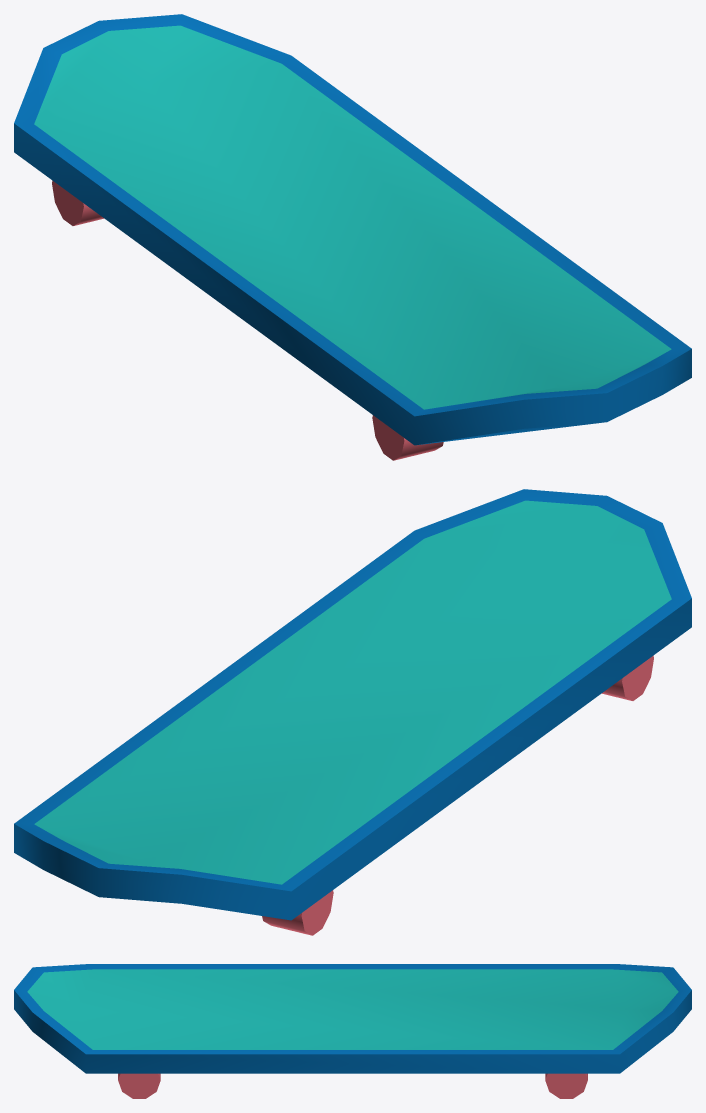
File: Skateboard_Models.fbx
The picture shows the model from 3 angles, top to bottom: view 1: azimuth 30°, elevation 25°; view 2: azimuth 150°, elevation 25°; view 3: azimuth 270°, elevation 25°; orthographic projection. The views are drawn at different scales.
Parts seen in each view (by area): view 1: skateboard; view 2: skateboard; view 3: skateboard.
Part boxes in pixels (bbox=[...]): skateboard: bbox=[14, 14, 691, 460]; skateboard: bbox=[14, 489, 691, 935]; skateboard: bbox=[14, 964, 691, 1098].
Bounding box in the file's own units: 26.41 × 9.32 × 83.85.
1 material, 1 textured.
